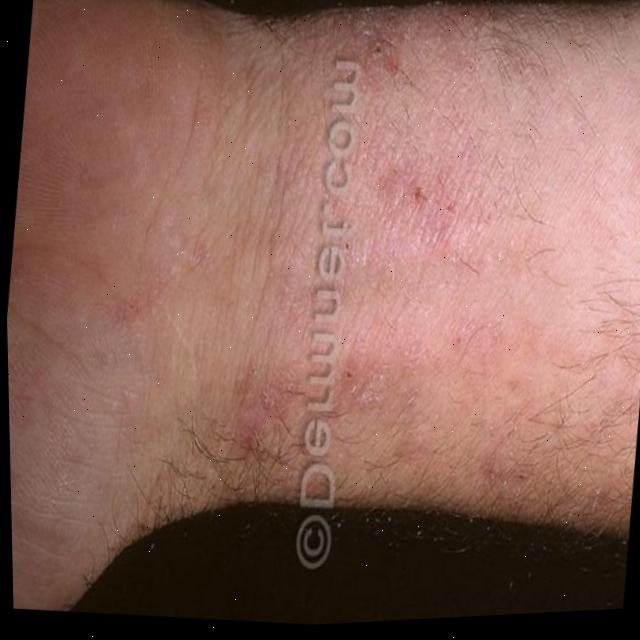Eczema: (178, 0, 640, 525)
